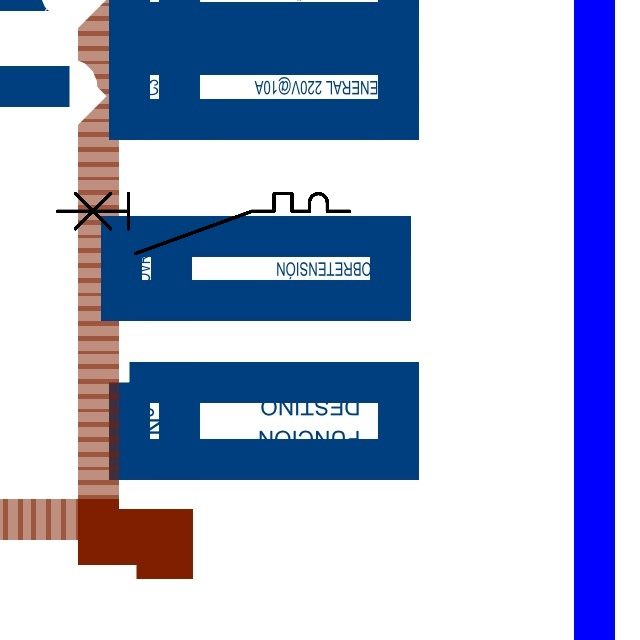interruptor_termomagnetico: (50, 186, 357, 261)
